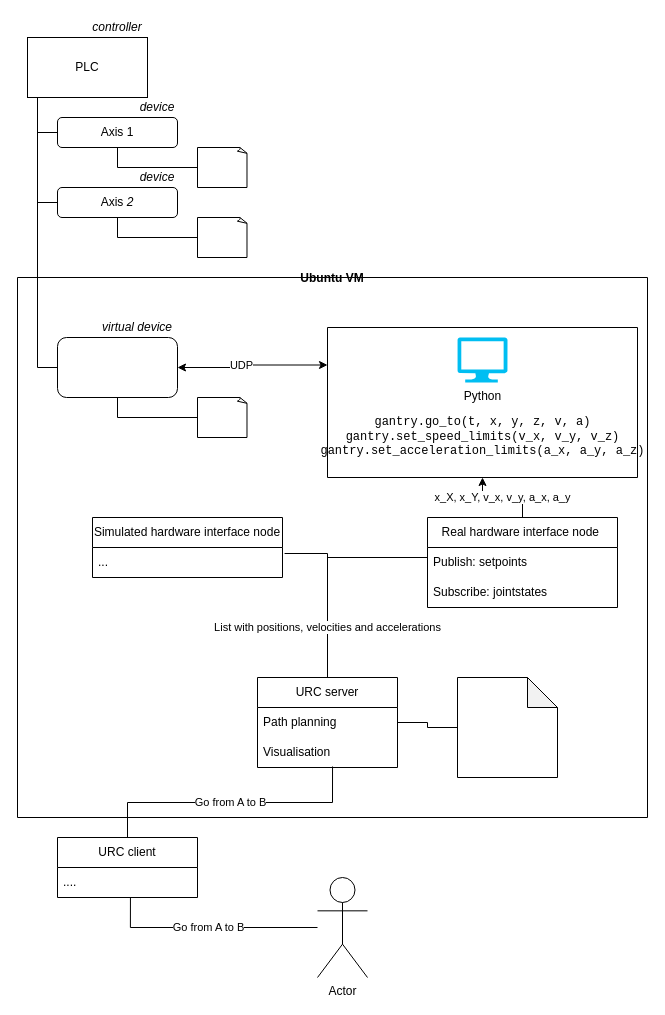
Image size: 665x1015. Some labels were removed from this diagram. Each missing label, with the centre of its shape:
GSD A: (222,167)
GSD B: (222,237)
GSD C: (222,417)
pnet library: (117,367)
URDF - Collistion meshes -Visualisation meshes: (507,727)
